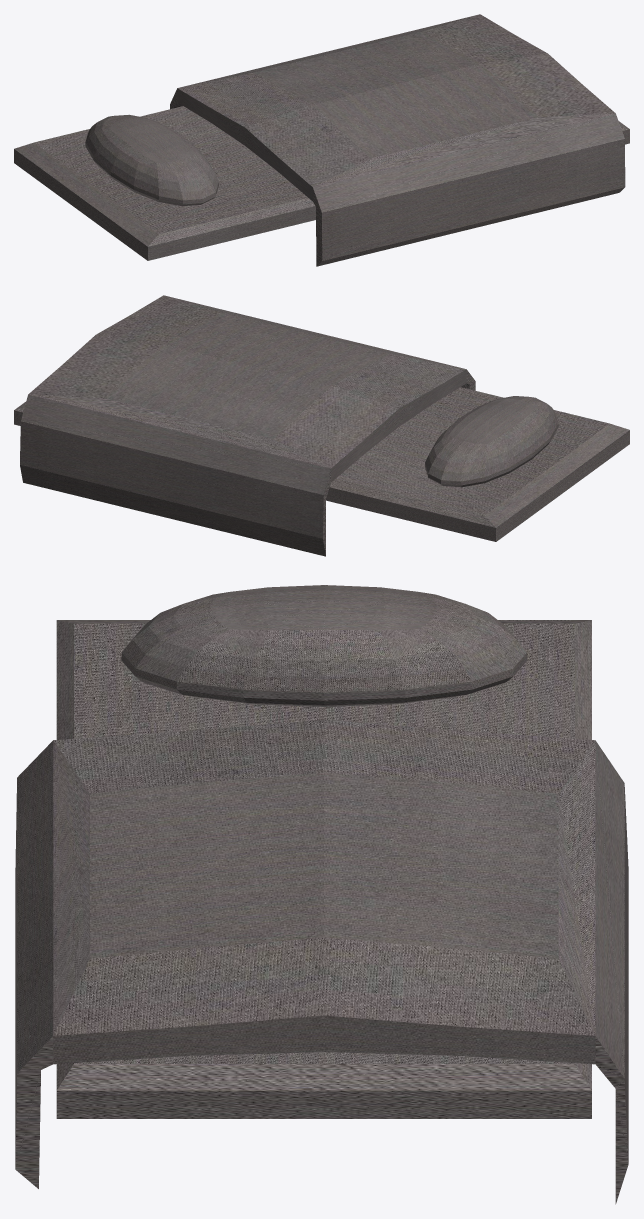
Rendered from bed_2.obj.
3 views of the same model, one above another, from view 1: azimuth 30°, elevation 25°; view 2: azimuth 150°, elevation 25°; view 3: azimuth 270°, elevation 25° (orthographic). The views are drawn at different scales.
Parts seen in each view (by area): view 1: Cube.003_Cube.004, Cube.001, Cube.002_Cube.003; view 2: Cube.003_Cube.004, Cube.001, Cube.002_Cube.003; view 3: Cube.003_Cube.004, Cube.001, Cube.002_Cube.003.
Boxes of the visible parts, x1=… form: Cube.003_Cube.004: x1=170, y1=14, x2=625, y2=266; Cube.001: x1=14, y1=106, x2=629, y2=260; Cube.002_Cube.003: x1=85, y1=114, x2=218, y2=206; Cube.003_Cube.004: x1=20, y1=295, x2=475, y2=556; Cube.001: x1=14, y1=387, x2=629, y2=541; Cube.002_Cube.003: x1=425, y1=396, x2=558, y2=487; Cube.003_Cube.004: x1=15, y1=719, x2=628, y2=1204; Cube.001: x1=56, y1=620, x2=591, y2=1118; Cube.002_Cube.003: x1=121, y1=585, x2=527, y2=706.
Bounding box in the file's own units: 6.99 × 1.51 × 3.85.
